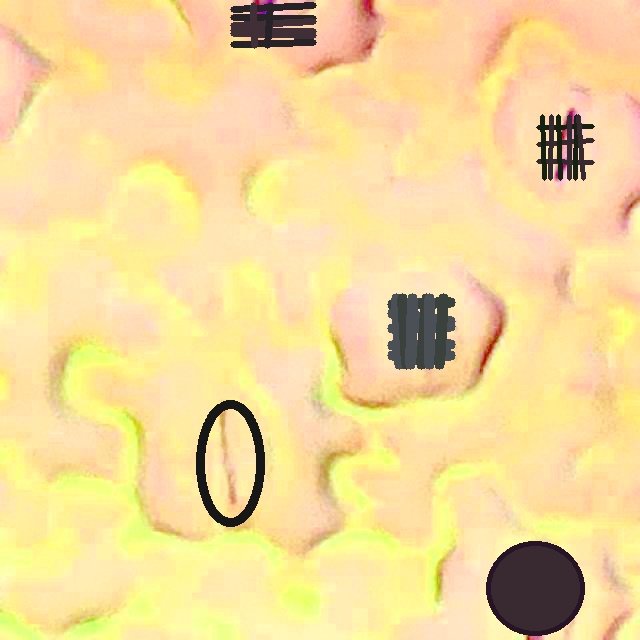close: (196, 399, 265, 527), (387, 294, 454, 369)
open: (486, 541, 584, 635), (230, 2, 316, 48), (536, 115, 594, 180)
